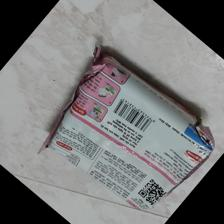Haohao: (42, 45, 214, 214)
